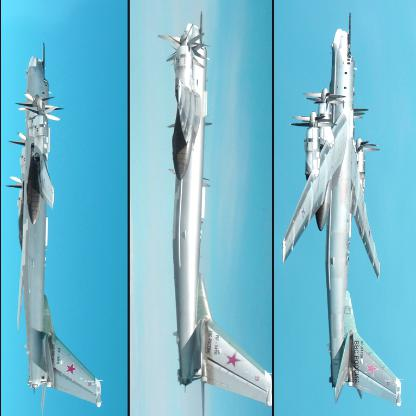Su57: (281, 12, 403, 406), (156, 9, 272, 414), (5, 42, 104, 414)
